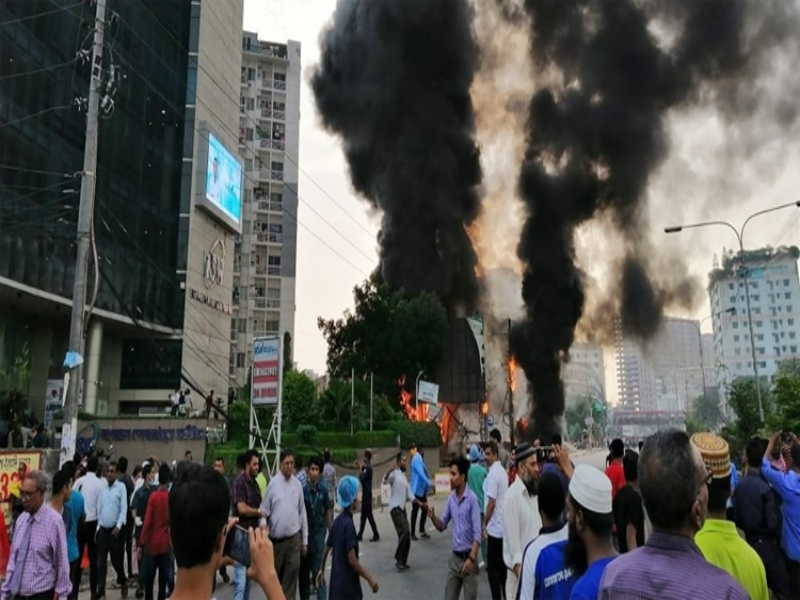smoke: (309, 1, 799, 450)
